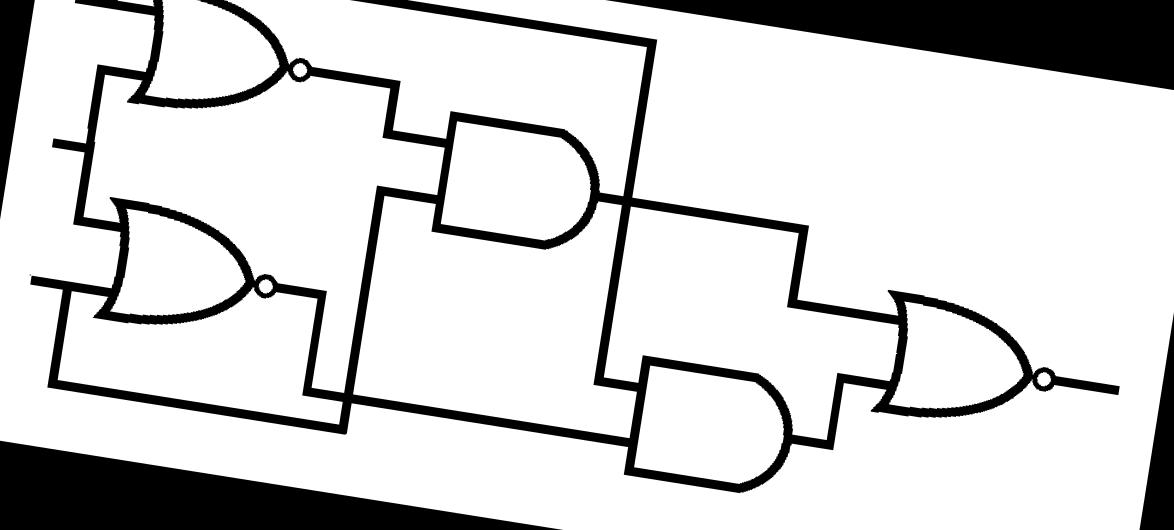and: (596, 332, 822, 522), (405, 82, 625, 276)
nor: (846, 264, 1084, 460), (74, 189, 299, 354), (110, 0, 332, 143)
